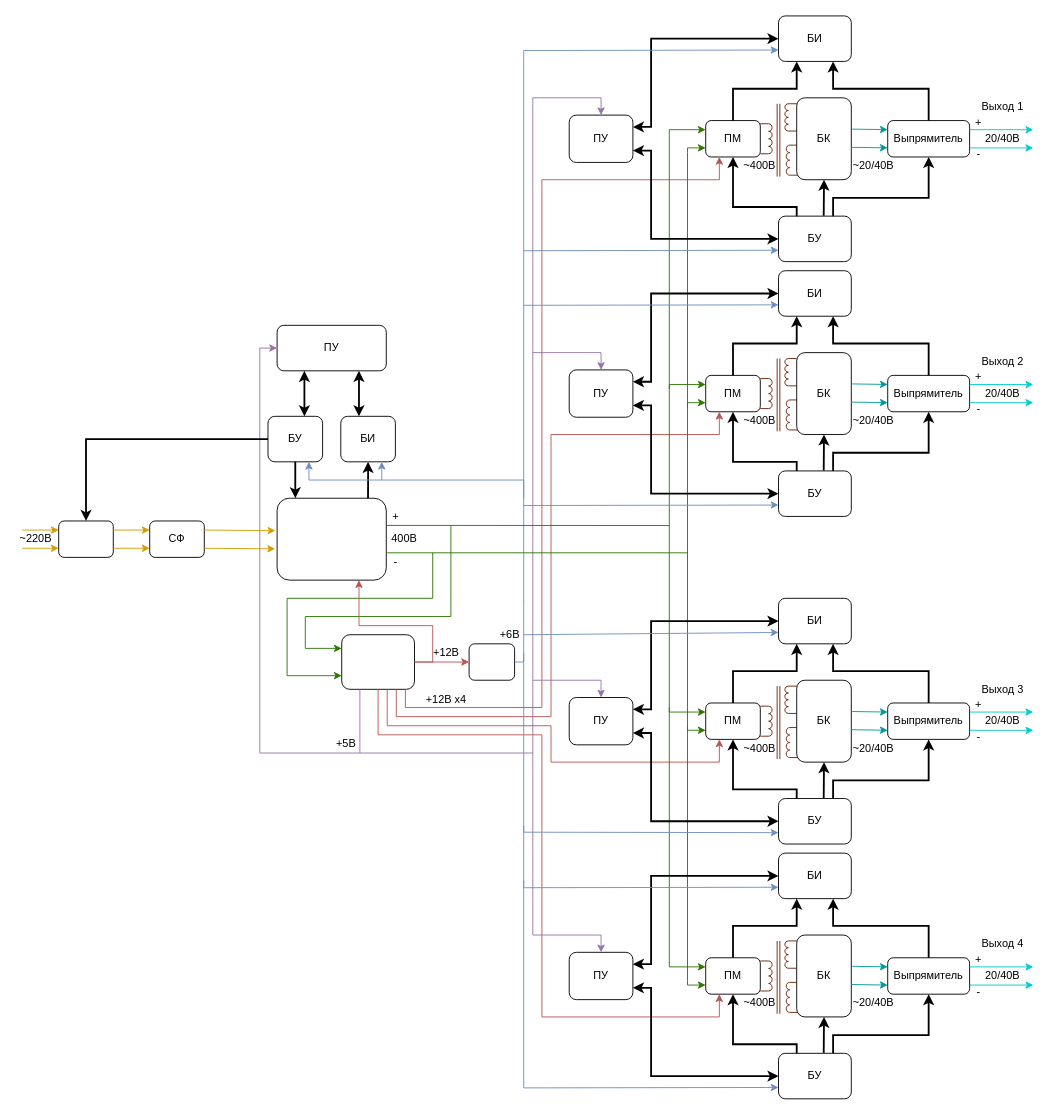
This 1057x1115 diagram has some shape labels left out. The shapes that lost their labels are listed below. From the top down, each one's centre as x and y in pixels, then its label:
(85,538): СЗ
(331,538): ККМ
(378,661): ДП
(491,661): DC-DC
